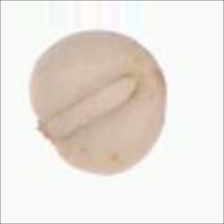L5: (38, 71, 142, 142), (135, 41, 169, 105)
L6: (27, 28, 169, 178)
